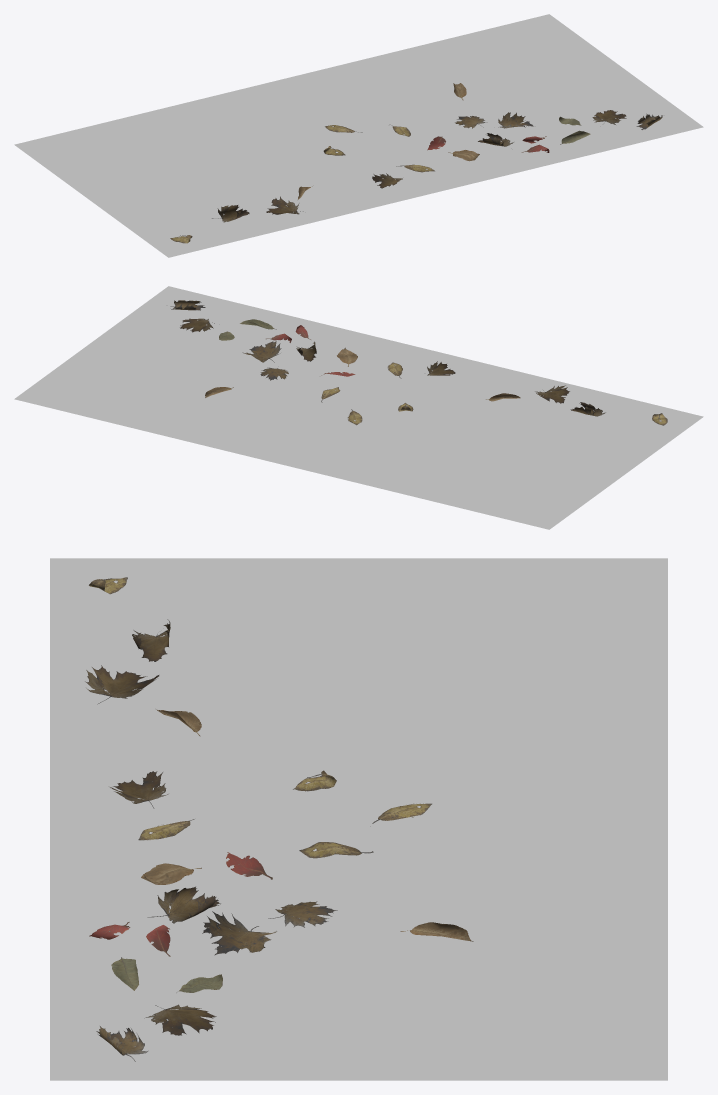
File: Leaves18.FBX
The picture shows the model from 3 angles, top to bottom: view 1: azimuth 30°, elevation 25°; view 2: azimuth 150°, elevation 25°; view 3: azimuth 270°, elevation 25°; orthographic projection. The views are drawn at different scales.
Visible parts, largest first — view 1: Leaves18_Decal, Leaves18; view 2: Leaves18_Decal, Leaves18; view 3: Leaves18_Decal, Leaves18.
Part boxes in pixels (x1,y1,x2,y2): Leaves18_Decal: [14, 14, 703, 257]; Leaves18: [170, 83, 662, 243]; Leaves18_Decal: [14, 286, 703, 529]; Leaves18: [170, 300, 667, 425]; Leaves18_Decal: [50, 558, 667, 1080]; Leaves18: [85, 577, 473, 1061].
Bounding box in the file's own units: 2.2 × 0.0483 × 1.1.
